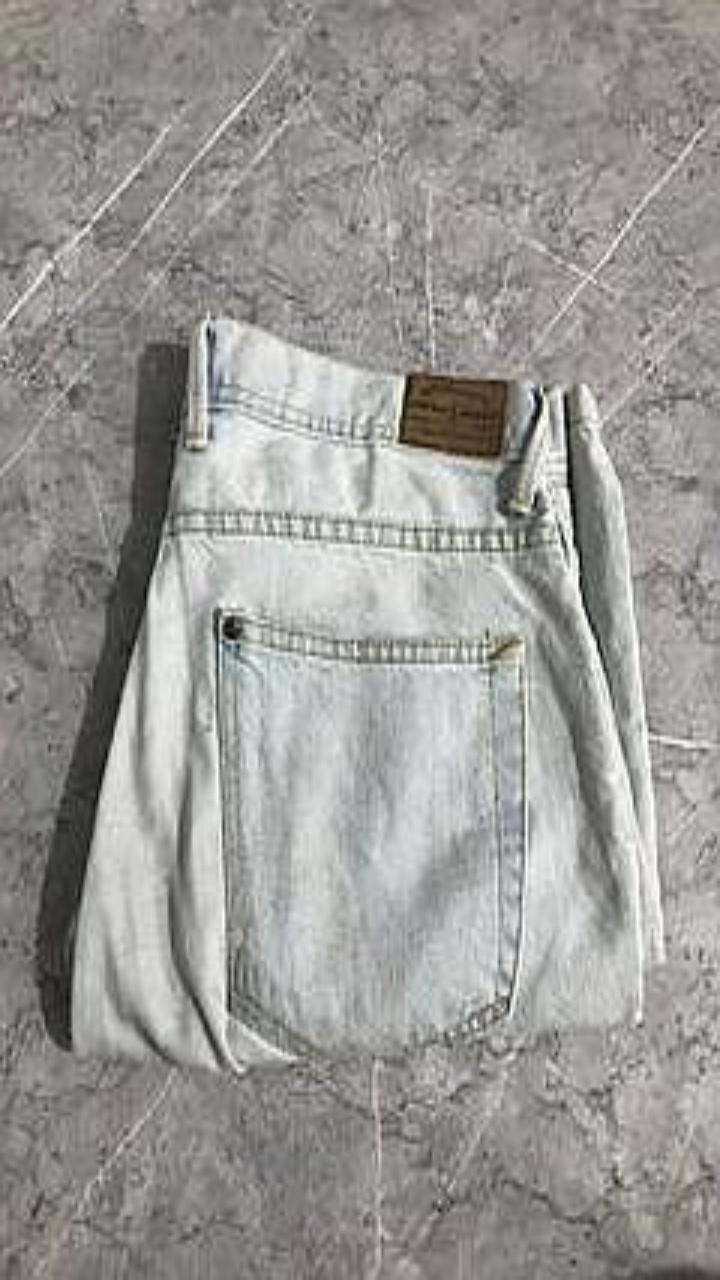Shorts: (72, 315, 664, 1070)
